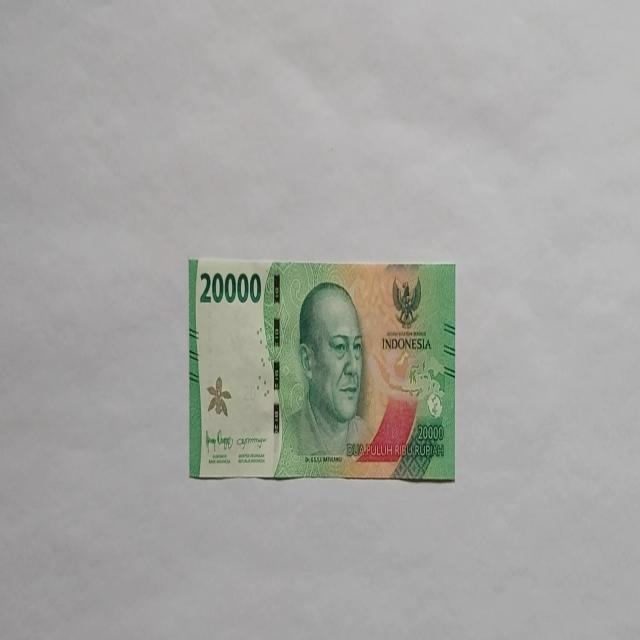dua puluh ribu rupiah: (188, 256, 457, 483)
